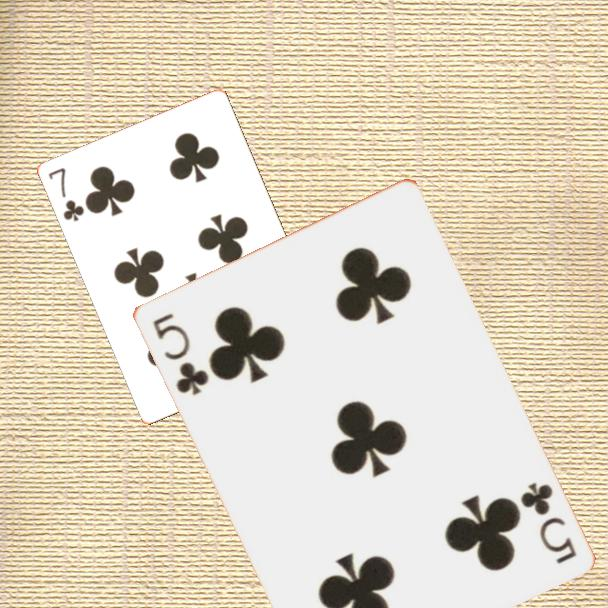c05: (148, 309, 211, 398), (516, 478, 579, 567)
c07: (45, 164, 88, 225)
